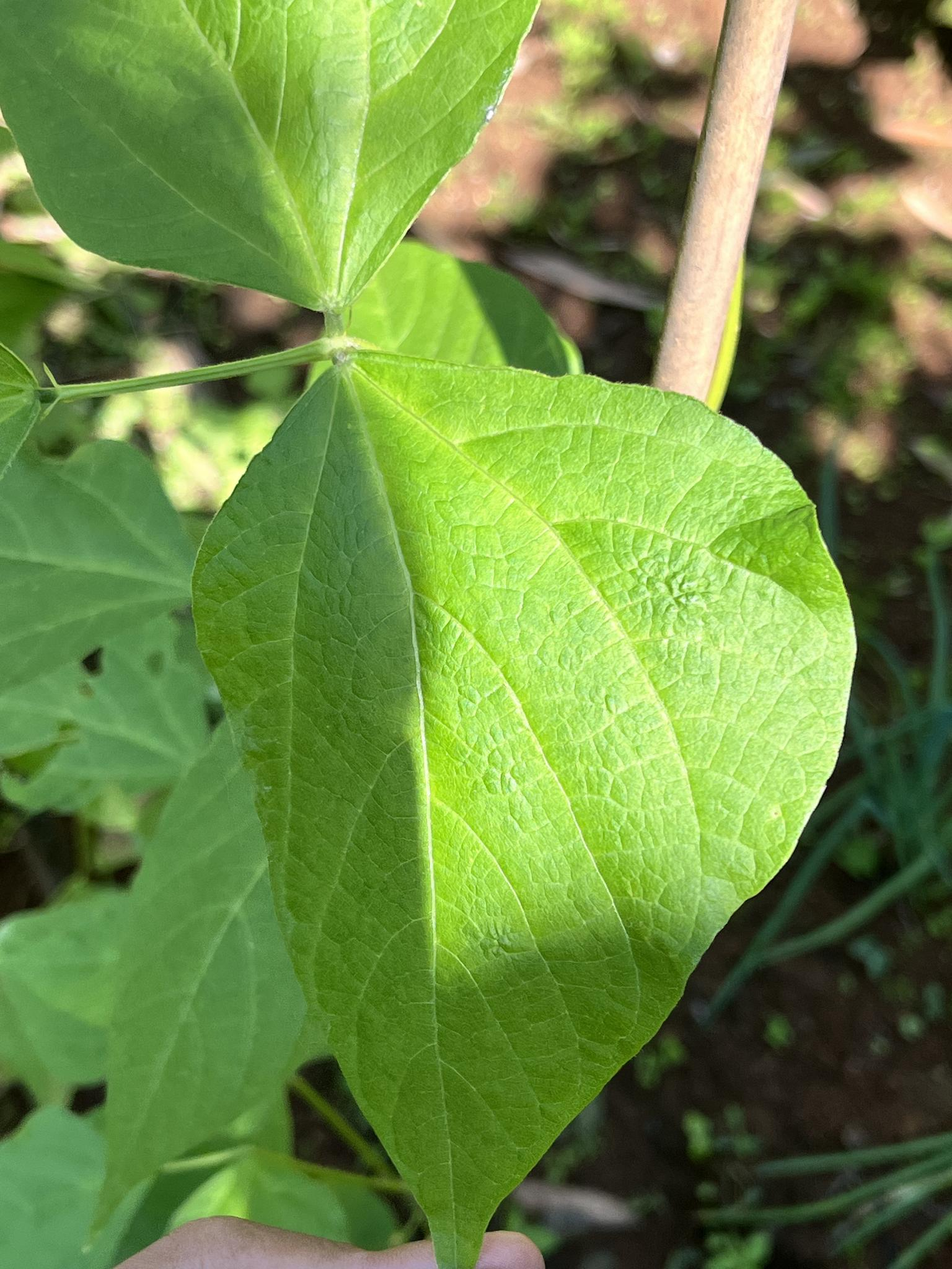sehat: (182, 354, 857, 1269)
